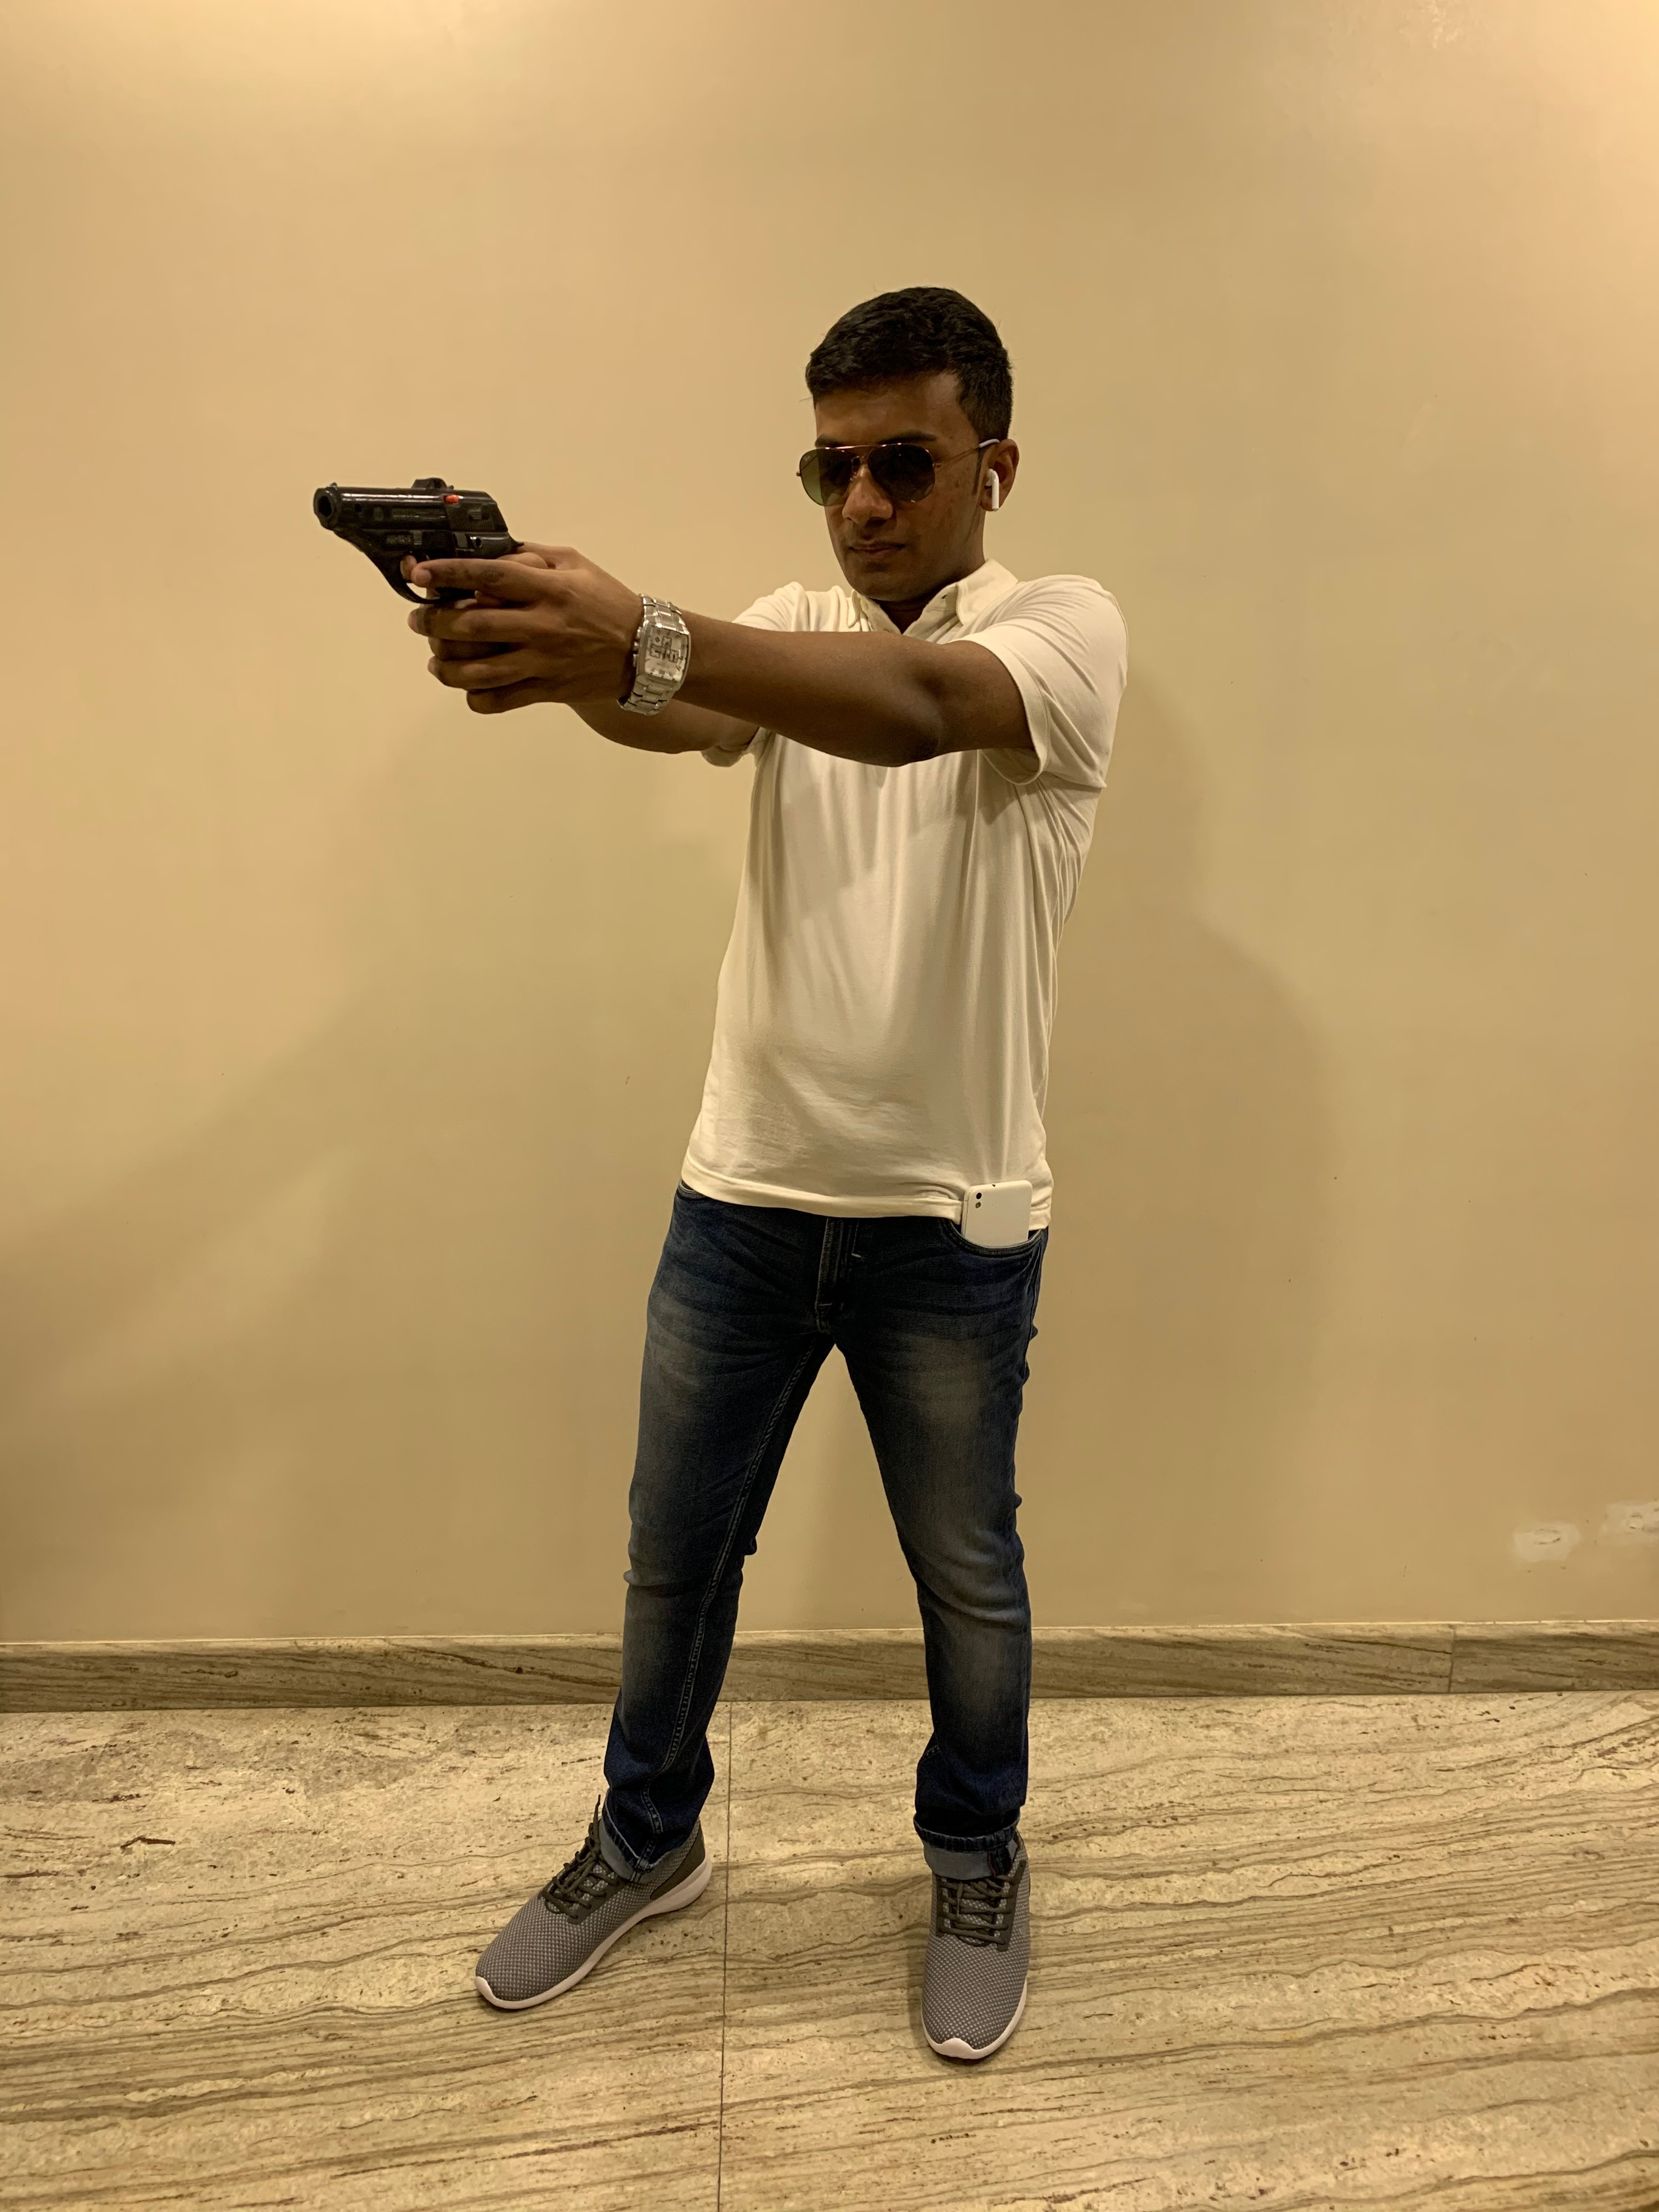gun: (310, 472, 533, 627)
